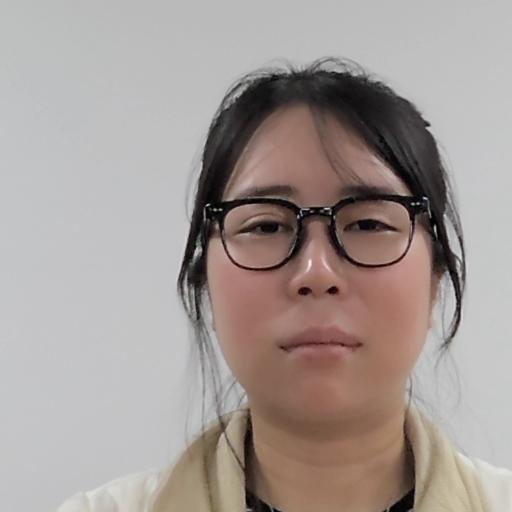no_glasses: (176, 64, 475, 438)
